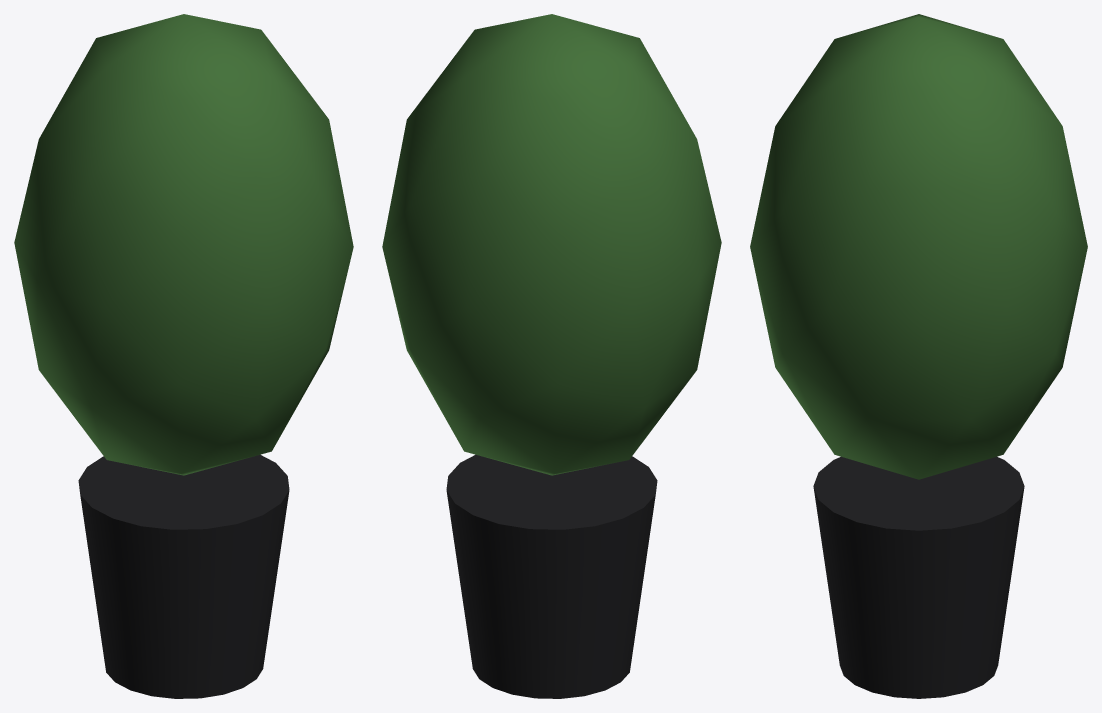
Rendered from plant.glb.
3 views of the same model, side by side, from view 1: azimuth 30°, elevation 25°; view 2: azimuth 150°, elevation 25°; view 3: azimuth 270°, elevation 25° (orthographic).
Bounding box in the file's own units: 0.512 × 1.08 × 0.512.
